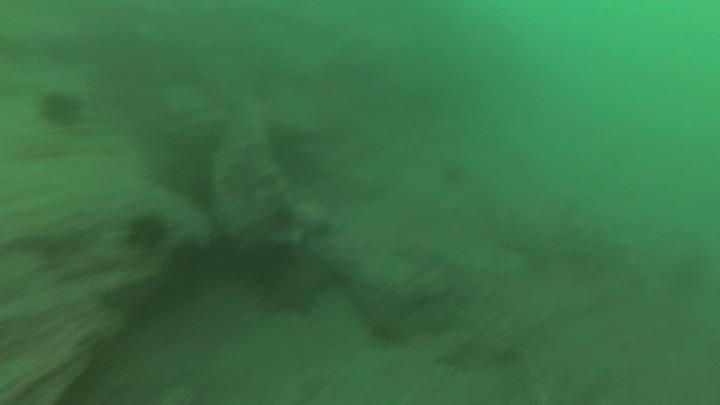echinus: (240, 237, 295, 285), (200, 233, 246, 281), (124, 211, 170, 252), (38, 89, 84, 128), (166, 238, 207, 279), (438, 159, 470, 188)
starfish: (257, 251, 336, 319), (390, 236, 449, 277)
